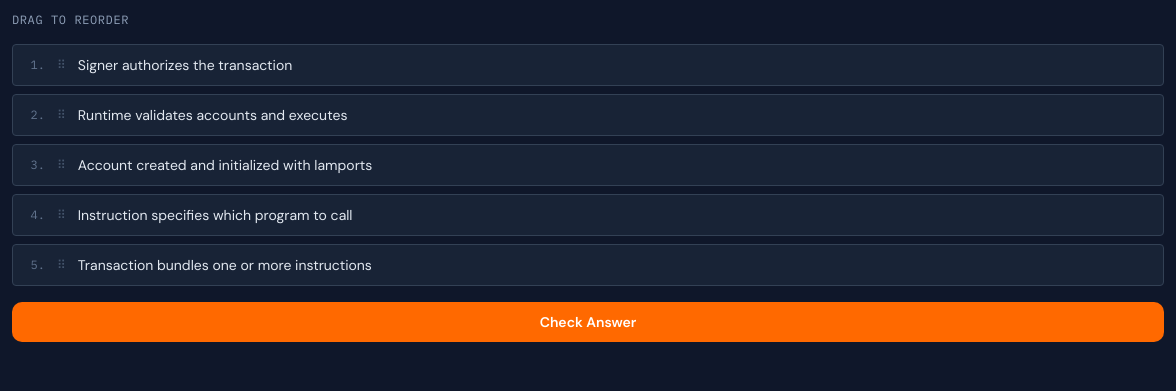
Test case: SequenceCompleter — submission › shows 'Submitted' on button after submission
Click the button "Check Answer" at (588, 322), box [12,302,1164,342]
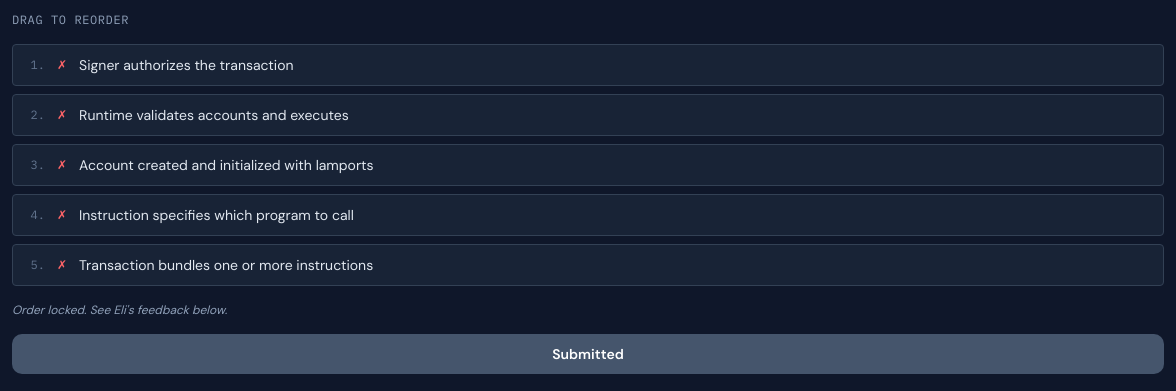
Expected: the button "Submitted" is shown, [12,334,1164,374]
